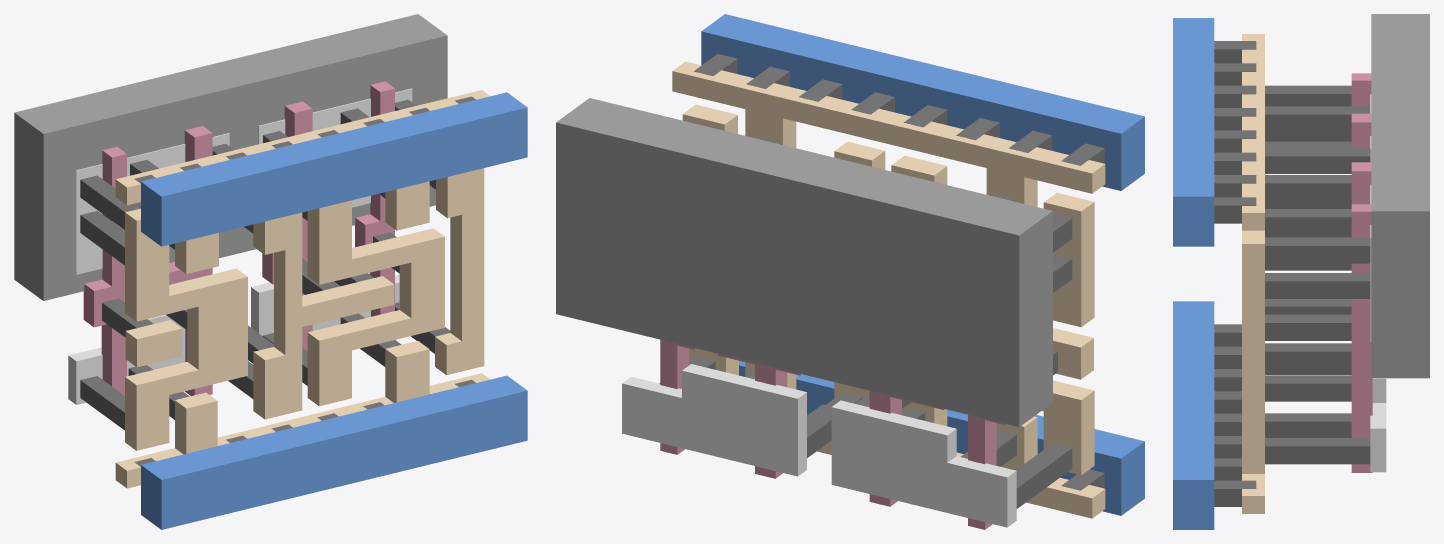
File: sky130_fd_sc_hd__clkdlybuf4s18_1.gds.gltf
3 views of the same model, side by side, from view 1: azimuth 30°, elevation 25°; view 2: azimuth 150°, elevation 25°; view 3: azimuth 270°, elevation 25° (orthographic). The views are drawn at different scales.
Visible parts, largest first — view 1: sky130_fd_sc_hd__clkdlybuf4s18_1_li1, sky130_fd_sc_hd__clkdlybuf4s18_1_met1, sky130_fd_sc_hd__clkdlybuf4s18_1_nwell, sky130_fd_sc_hd__clkdlybuf4s18_1_licon, sky130_fd_sc_hd__clkdlybuf4s18_1_poly, sky130_fd_sc_hd__clkdlybuf4s18_1_diff, sky130_fd_sc_hd__clkdlybuf4s18_1_mcon; view 2: sky130_fd_sc_hd__clkdlybuf4s18_1_nwell, sky130_fd_sc_hd__clkdlybuf4s18_1_li1, sky130_fd_sc_hd__clkdlybuf4s18_1_diff, sky130_fd_sc_hd__clkdlybuf4s18_1_met1, sky130_fd_sc_hd__clkdlybuf4s18_1_licon, sky130_fd_sc_hd__clkdlybuf4s18_1_mcon, sky130_fd_sc_hd__clkdlybuf4s18_1_poly; view 3: sky130_fd_sc_hd__clkdlybuf4s18_1_licon, sky130_fd_sc_hd__clkdlybuf4s18_1_nwell, sky130_fd_sc_hd__clkdlybuf4s18_1_met1, sky130_fd_sc_hd__clkdlybuf4s18_1_mcon, sky130_fd_sc_hd__clkdlybuf4s18_1_li1, sky130_fd_sc_hd__clkdlybuf4s18_1_poly, sky130_fd_sc_hd__clkdlybuf4s18_1_diff.
Boxes of the visible parts, x1,y1,x2,y2 form: sky130_fd_sc_hd__clkdlybuf4s18_1_li1: (115, 90, 489, 488); sky130_fd_sc_hd__clkdlybuf4s18_1_met1: (141, 92, 527, 529); sky130_fd_sc_hd__clkdlybuf4s18_1_nwell: (14, 14, 447, 300); sky130_fd_sc_hd__clkdlybuf4s18_1_licon: (80, 99, 450, 430); sky130_fd_sc_hd__clkdlybuf4s18_1_poly: (83, 81, 394, 395); sky130_fd_sc_hd__clkdlybuf4s18_1_diff: (68, 88, 412, 404); sky130_fd_sc_hd__clkdlybuf4s18_1_mcon: (134, 96, 475, 466); sky130_fd_sc_hd__clkdlybuf4s18_1_nwell: (556, 98, 1052, 426); sky130_fd_sc_hd__clkdlybuf4s18_1_li1: (672, 61, 1105, 518); sky130_fd_sc_hd__clkdlybuf4s18_1_diff: (622, 364, 1016, 527); sky130_fd_sc_hd__clkdlybuf4s18_1_met1: (701, 14, 1144, 515); sky130_fd_sc_hd__clkdlybuf4s18_1_licon: (659, 136, 1072, 508); sky130_fd_sc_hd__clkdlybuf4s18_1_mcon: (694, 54, 1104, 490); sky130_fd_sc_hd__clkdlybuf4s18_1_poly: (660, 339, 1006, 529); sky130_fd_sc_hd__clkdlybuf4s18_1_licon: (1265, 85, 1370, 464); sky130_fd_sc_hd__clkdlybuf4s18_1_nwell: (1371, 14, 1429, 378); sky130_fd_sc_hd__clkdlybuf4s18_1_met1: (1173, 18, 1214, 529); sky130_fd_sc_hd__clkdlybuf4s18_1_mcon: (1214, 41, 1256, 506); sky130_fd_sc_hd__clkdlybuf4s18_1_li1: (1242, 34, 1264, 513); sky130_fd_sc_hd__clkdlybuf4s18_1_poly: (1351, 73, 1372, 472); sky130_fd_sc_hd__clkdlybuf4s18_1_diff: (1370, 94, 1386, 472).
Size of the model in its own units: 4.06 by 3.2 by 2.24.
